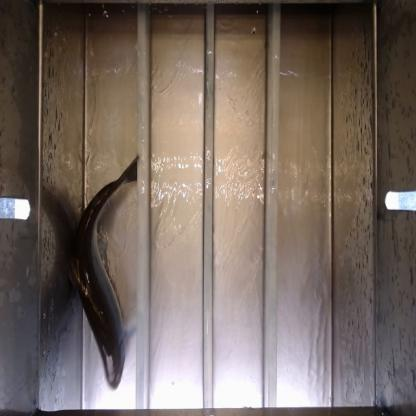pezw: (79, 144, 138, 392)
